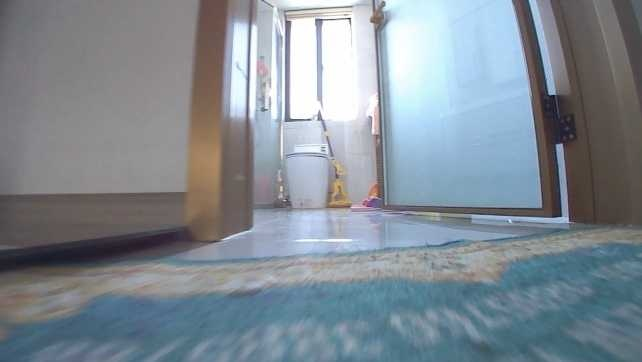blanket: (0, 224, 641, 360)
door_anno: (365, 1, 640, 222)
toilet: (281, 137, 331, 209)
